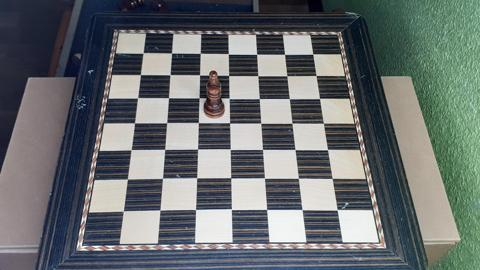xcorner: (296, 174, 306, 183), (139, 47, 148, 56), (136, 69, 145, 78), (133, 92, 142, 101), (130, 117, 139, 126), (126, 145, 135, 154), (123, 174, 132, 183), (118, 206, 127, 215), (168, 47, 177, 56), (166, 69, 175, 78), (164, 92, 173, 101), (162, 117, 171, 126), (160, 145, 169, 154), (158, 174, 167, 183), (155, 206, 164, 215), (197, 48, 206, 57), (196, 69, 205, 78), (195, 92, 204, 101), (194, 118, 203, 127), (193, 145, 202, 154), (192, 174, 201, 183), (191, 206, 200, 215), (226, 48, 235, 57), (226, 69, 235, 78), (226, 93, 235, 102), (226, 118, 235, 127), (227, 145, 236, 154), (227, 174, 236, 183), (228, 206, 237, 215), (254, 48, 263, 57), (255, 70, 264, 79), (257, 93, 266, 102), (258, 118, 267, 127), (260, 145, 269, 154), (262, 174, 271, 183), (264, 206, 273, 215), (283, 48, 292, 57), (285, 70, 294, 79), (288, 93, 297, 102), (290, 118, 299, 127), (293, 145, 302, 154), (300, 206, 309, 215), (311, 48, 320, 57), (315, 70, 324, 79), (318, 93, 327, 102), (322, 118, 331, 127), (326, 145, 335, 154), (331, 174, 340, 183), (336, 206, 345, 215)
